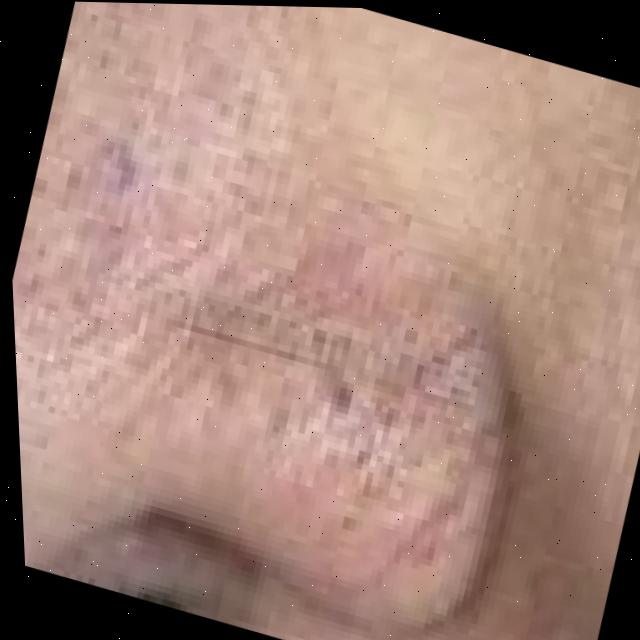Melasma: (213, 246, 477, 487)
